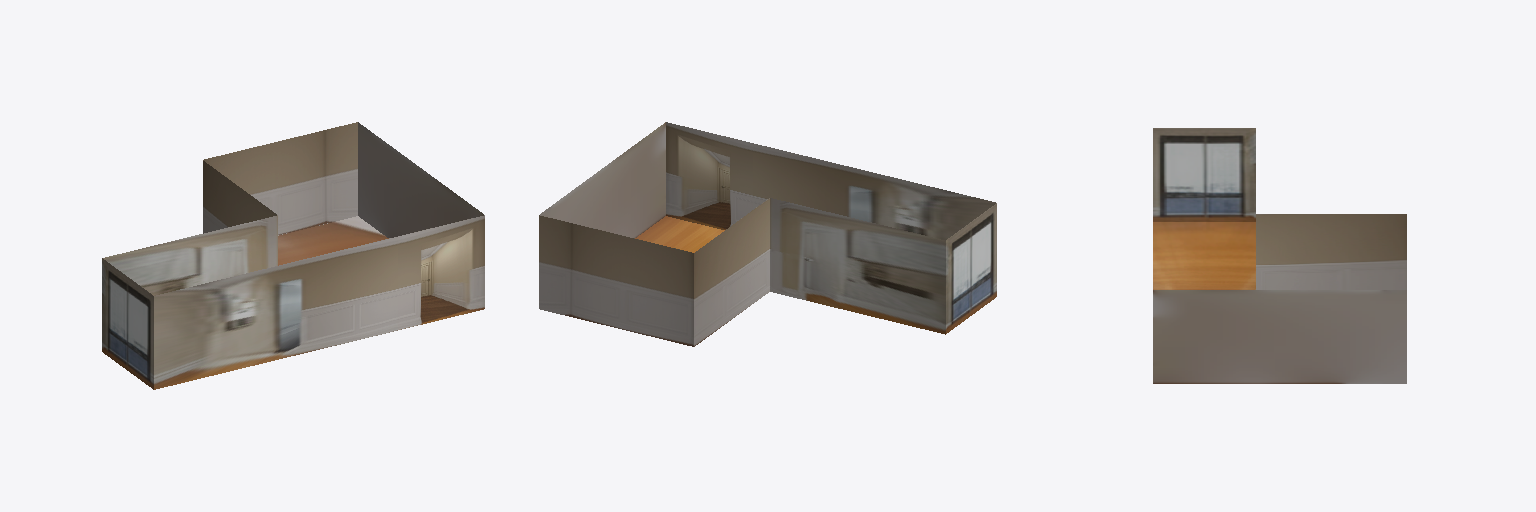
The picture shows the model from 3 angles: view 1: azimuth 30°, elevation 25°; view 2: azimuth 150°, elevation 25°; view 3: azimuth 270°, elevation 25°; orthographic projection.
Visible parts, largest first — view 1: wall; view 2: wall; view 3: wall.
Part boxes in pixels (bbox=[...]): wall: bbox=[102, 122, 484, 389]; wall: bbox=[539, 122, 996, 346]; wall: bbox=[1153, 128, 1406, 383].
Size of the model in its own units: 276 by 75.02 by 184.
Materials: 2 (1 with a texture image).